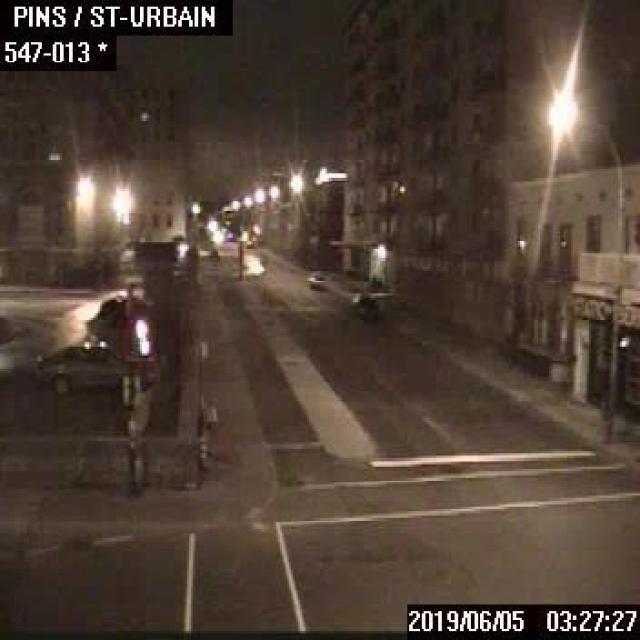vehicle: (31, 340, 155, 390), (86, 295, 156, 344), (344, 282, 380, 318), (304, 267, 326, 289)
